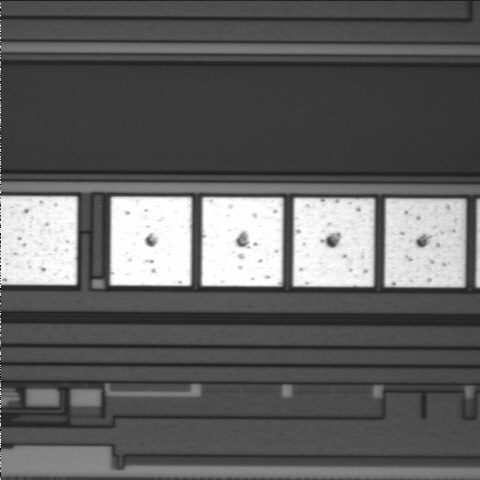pad: (110, 197, 192, 286), (201, 197, 283, 286), (293, 198, 375, 287), (385, 199, 466, 287)
